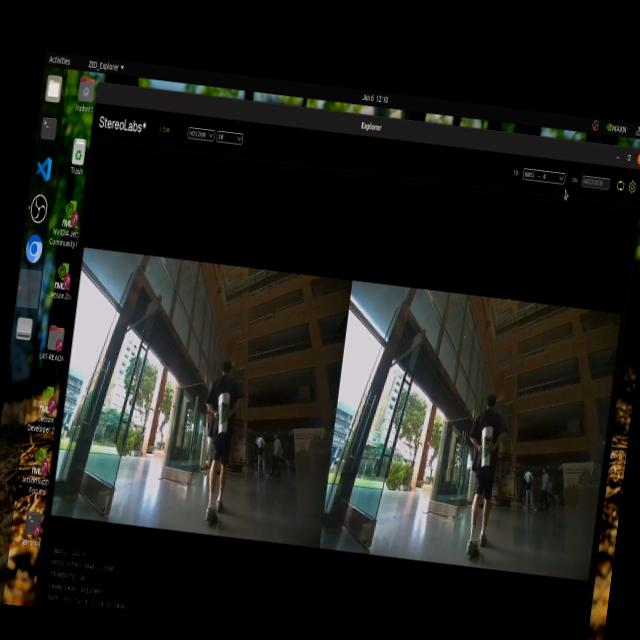green: (213, 398, 234, 434), (478, 430, 491, 454)
